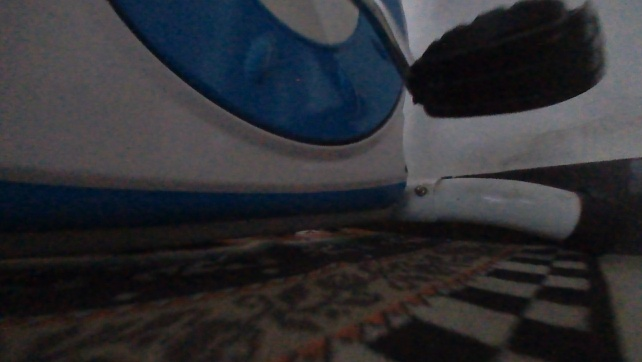blanket: (1, 225, 641, 361)
